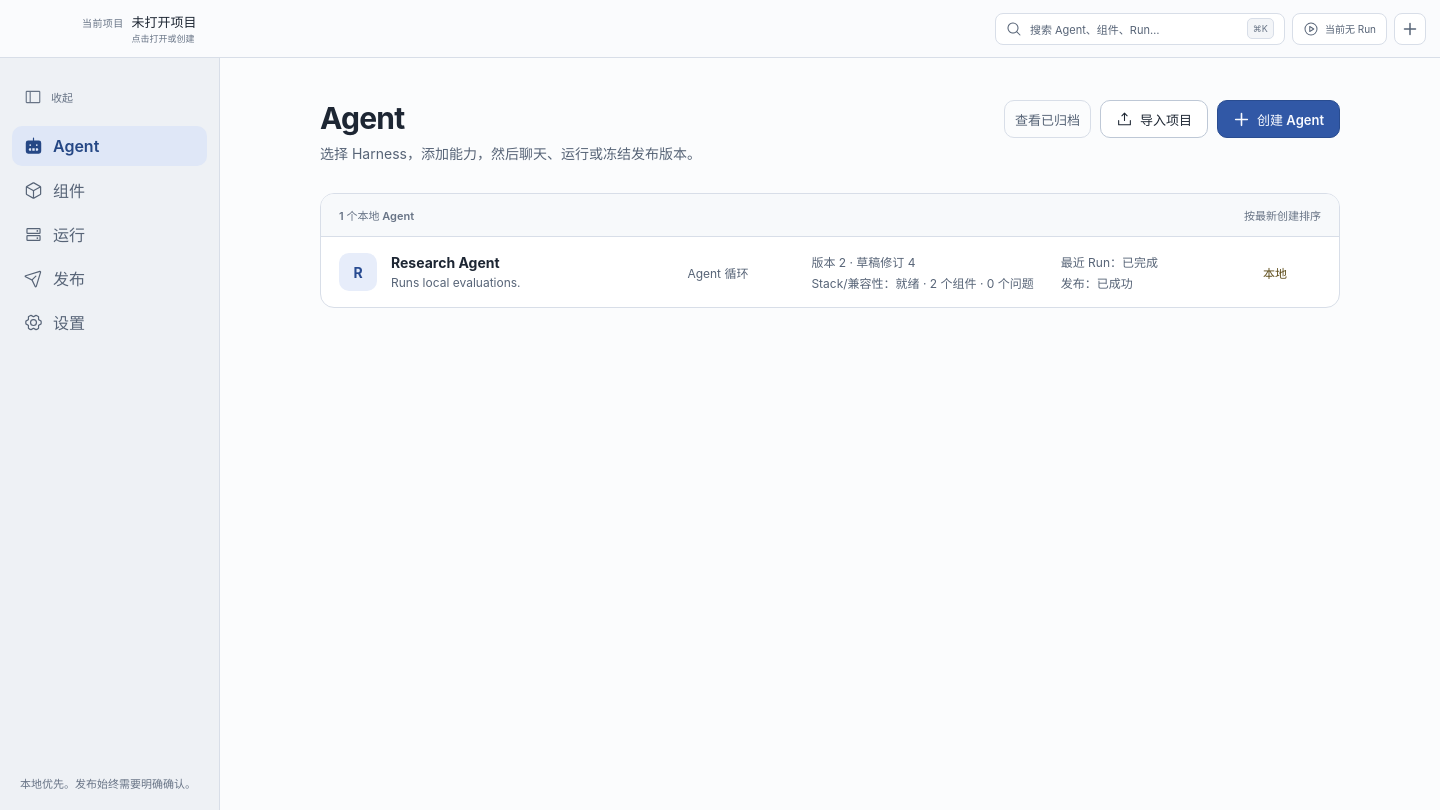
Scenario: App › shows the same real status projection in the Agent list and overview
Expected: the text "版本 2 · 草稿修订 4" is shown, [811,255,916,270]
Expected: the text "Stack/兼容性：就绪 · 2 个组件 · 0 个问题" is shown, [811,274,1047,291]
Click the button "Research Agent" at (830, 272), box [321,237,1339,307]
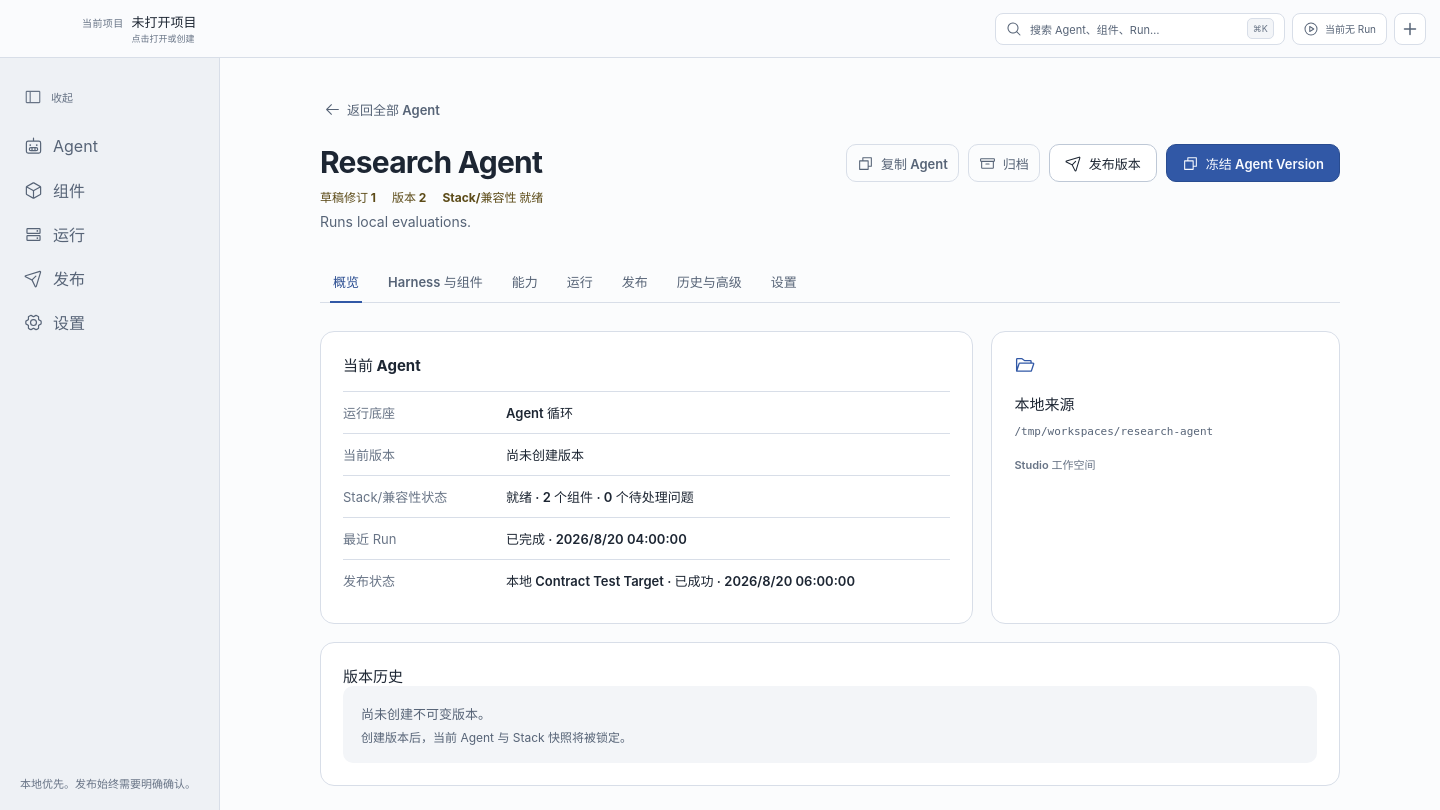
Now the text "Stack/兼容性 就绪" is shown, box [442,188,543,205]
Now the text "就绪 · 2 个组件 · 0 个待处理问题" is shown, box [506,489,694,505]
Now the text "本地 Contract Test Target · 已成功 · 2026/8/20 06:00:00" is shown, box [506,573,855,589]
